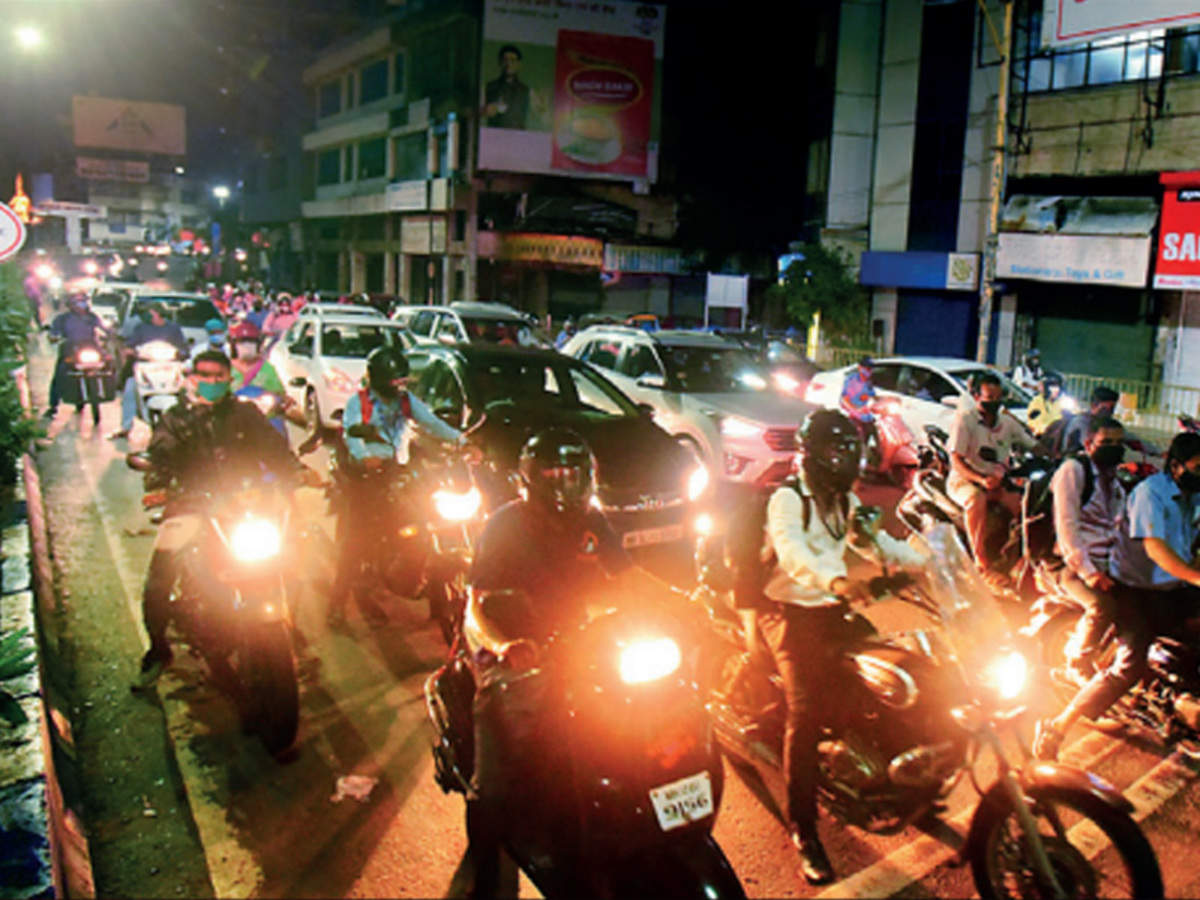bike: (726, 433, 1167, 900), (457, 429, 744, 900), (127, 350, 318, 756), (331, 351, 481, 625), (835, 354, 923, 472), (54, 285, 118, 425), (123, 301, 187, 428)
car: (428, 352, 722, 509), (279, 315, 389, 392)
